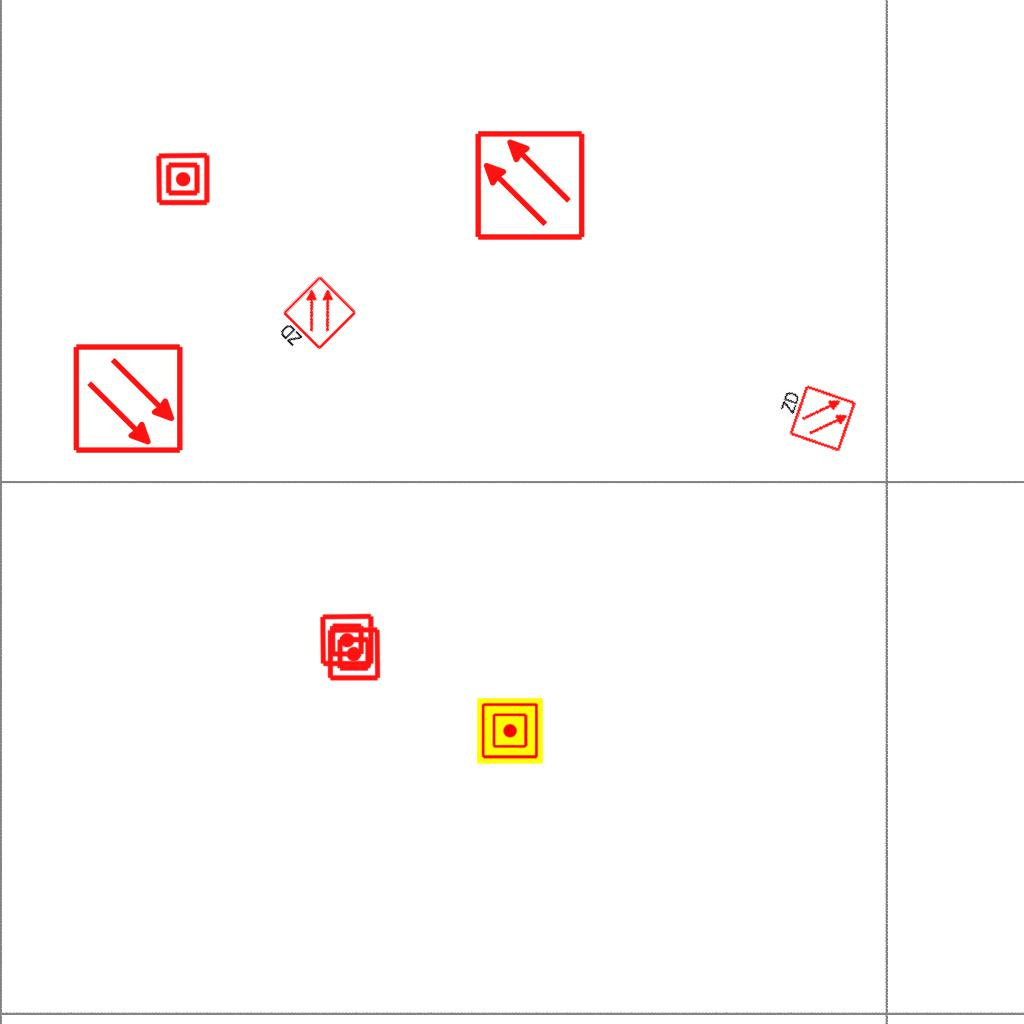NAM-Nichtautomatischer_Melder: (477, 698, 543, 764), (155, 151, 211, 207), (319, 612, 375, 668), (326, 626, 382, 682)
RMO_Rauchmelder_optischer: (72, 342, 185, 455), (473, 129, 586, 242)
ZD_Melder_in_Zwischendecke_mit_Revisionsoeffnung_mind_40_x_40_cm: (267, 273, 360, 367), (769, 377, 858, 455)
